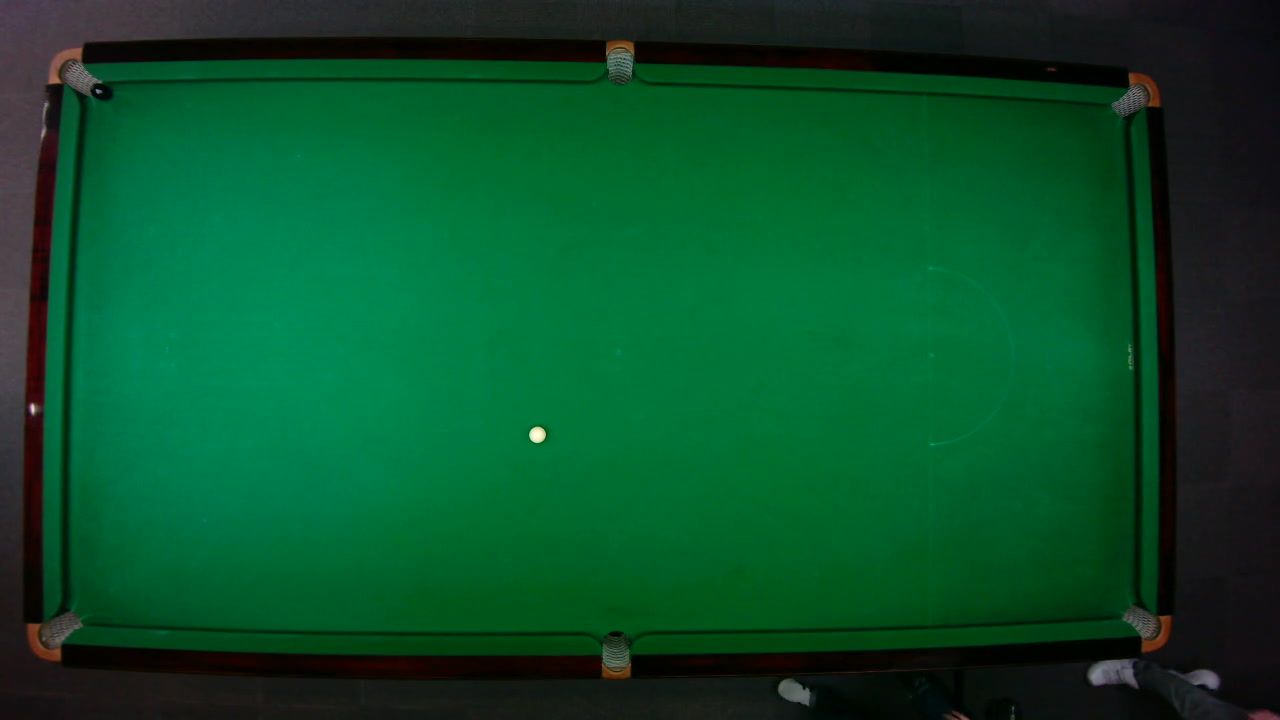bag: (25, 609, 83, 661), (46, 46, 102, 96), (1119, 603, 1172, 651), (1108, 71, 1161, 118), (601, 629, 630, 680), (605, 38, 633, 85)
black: (90, 82, 110, 99)
white: (527, 425, 546, 443)
zone: (927, 265, 1013, 445)
